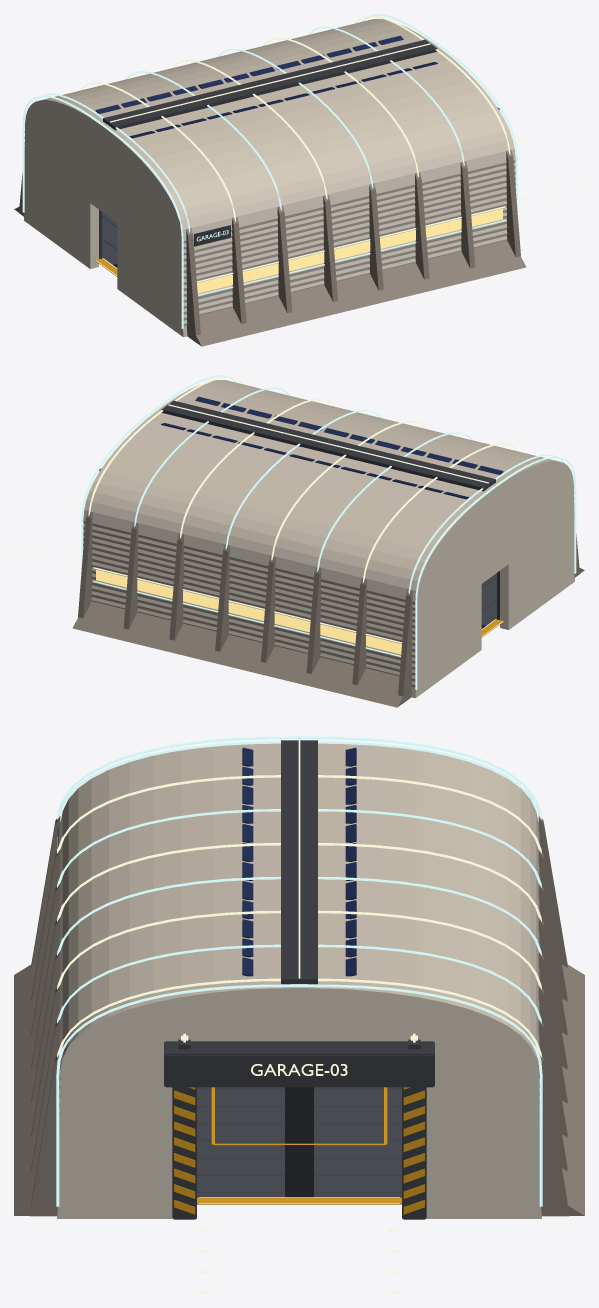
File: Utilities.fbx
3 renders of one model, top to bottom at view 1: azimuth 30°, elevation 25°; view 2: azimuth 150°, elevation 25°; view 3: azimuth 270°, elevation 25°, orthographic. The views are drawn at different scales.
Parts seen in each view (by area): view 1: Utilities solid, Utilities trim; view 2: Utilities solid, Utilities trim; view 3: Utilities solid, Utilities trim.
Part boxes in pixels (x1,y1,x2,y2): Utilities solid: (14,19,526,346); Utilities trim: (22,14,584,328); Utilities solid: (72,380,584,707); Utilities trim: (14,375,576,689); Utilities solid: (14,743,584,1219); Utilities trim: (56,736,542,1293).
Bounding box in the file's own units: 19.26 × 6.37 × 13.92.
